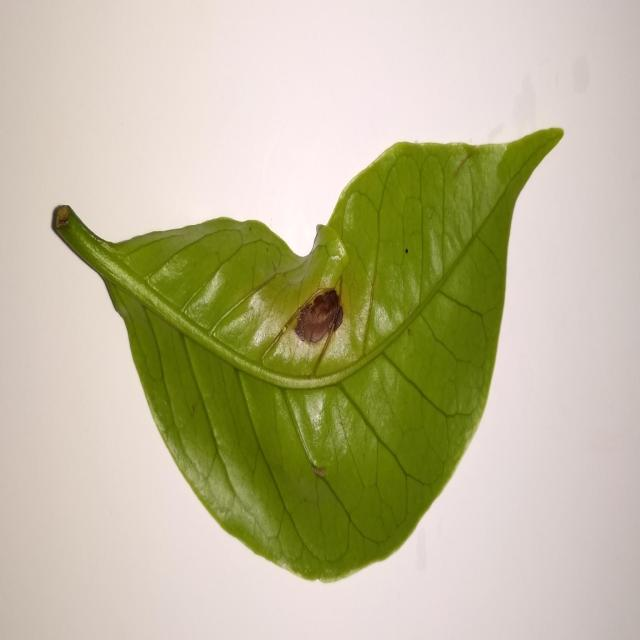Enfermedad-Antracnosis: (50, 127, 564, 586)
